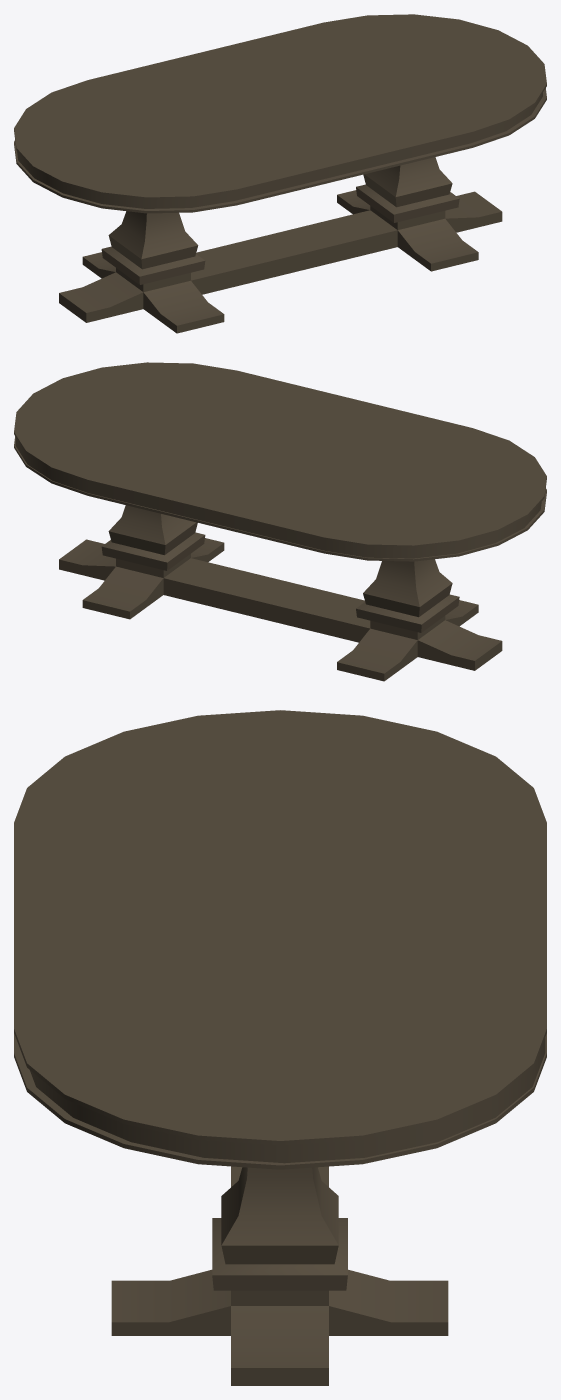
Rendered from Table_RoundLarge.glb.
The picture shows the model from 3 angles, top to bottom: view 1: azimuth 30°, elevation 25°; view 2: azimuth 150°, elevation 25°; view 3: azimuth 270°, elevation 25°; orthographic projection. The views are drawn at different scales.
Parts seen in each view (by area): view 1: Table_RoundLarge; view 2: Table_RoundLarge; view 3: Table_RoundLarge.
Part boxes in pixels (<box>): Table_RoundLarge: <box>14,14,546,333</box>; Table_RoundLarge: <box>14,362,546,681</box>; Table_RoundLarge: <box>14,710,546,1385</box>.
Bounding box in the file's own units: 1.82 × 0.5483 × 0.9491.
Materials: 1 (1 with a texture image).
